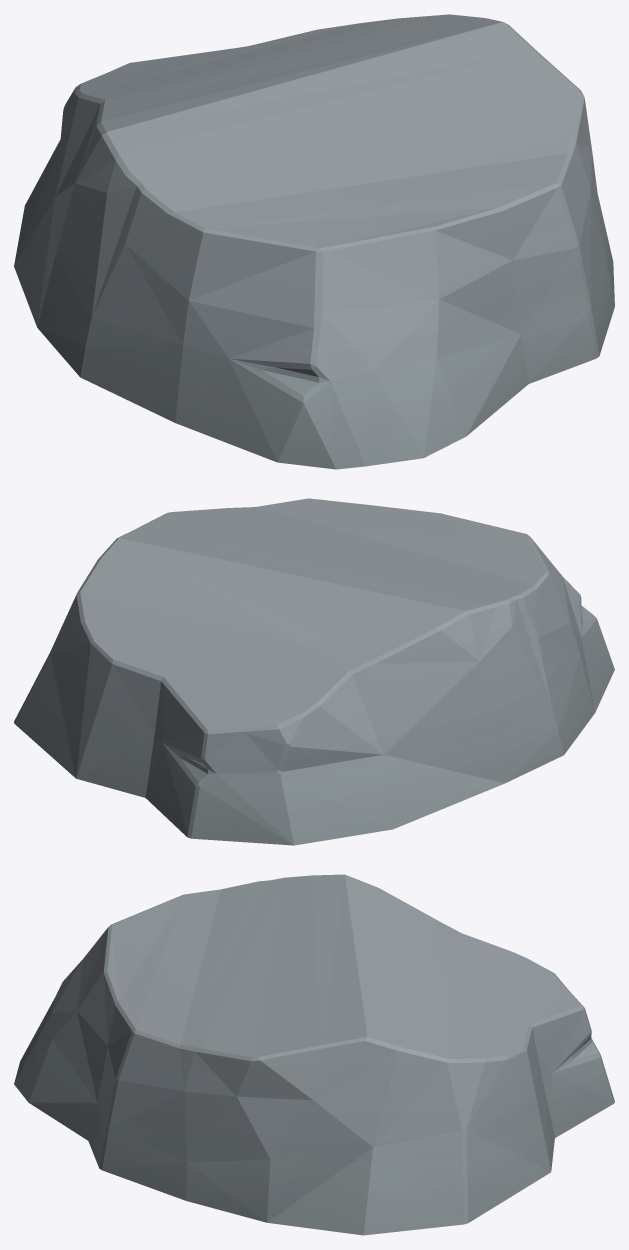
Rendered from rock_flat.glb.
3 renders of one model, top to bottom at view 1: azimuth 30°, elevation 25°; view 2: azimuth 150°, elevation 25°; view 3: azimuth 270°, elevation 25°, orthographic. The views are drawn at different scales.
Visible parts, largest first — view 1: rock_flat; view 2: rock_flat; view 3: rock_flat.
Part boxes in pixels (x1,y1,x2,y2): rock_flat: [14, 14, 614, 469]; rock_flat: [14, 498, 614, 845]; rock_flat: [14, 874, 614, 1235].
Bounding box in the file's own units: 1.6 × 0.55 × 1.79.
Materials: 1 (1 with a texture image).
